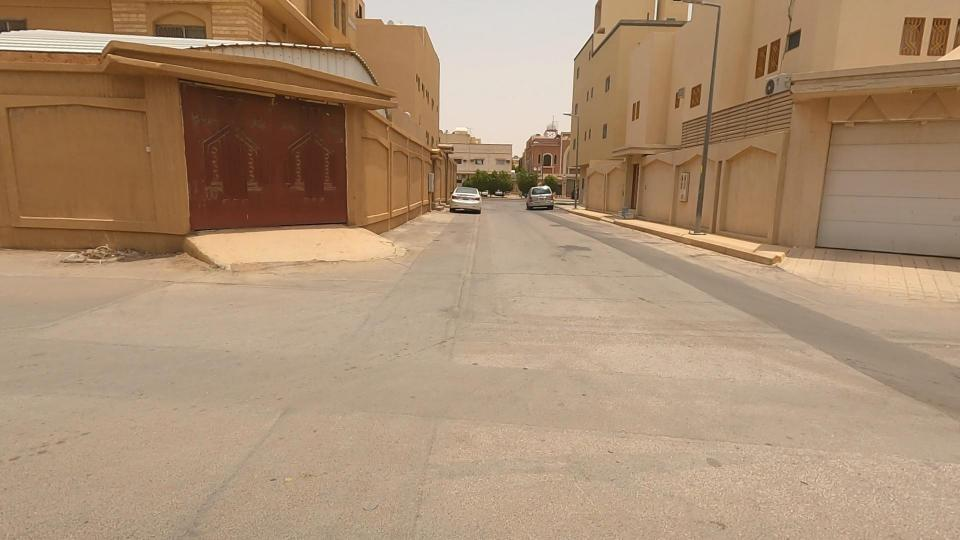GARBAGE: (28, 210, 193, 297)
